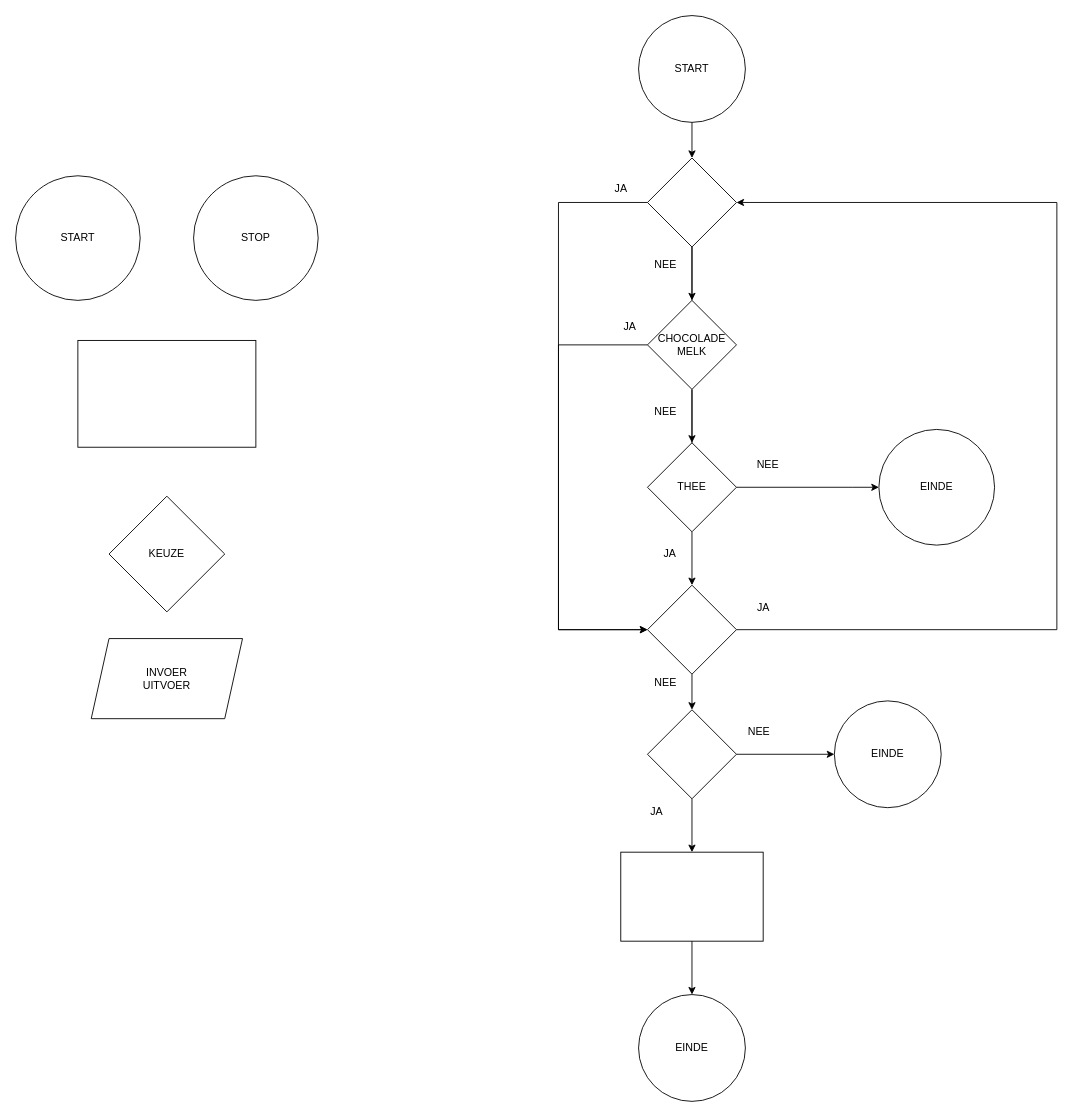
The diagram is 1080 pixels wide and 1117 high, and some of its shapes have lost their labels. The centre of each missing label's shape, as x and y in pixels:
BETAAL: point 691,754
KOFFIE: point 691,202
MAAK DRANK: point 691,896
NOG EEN DRANK: point 691,629
PROCES: point 166,393
